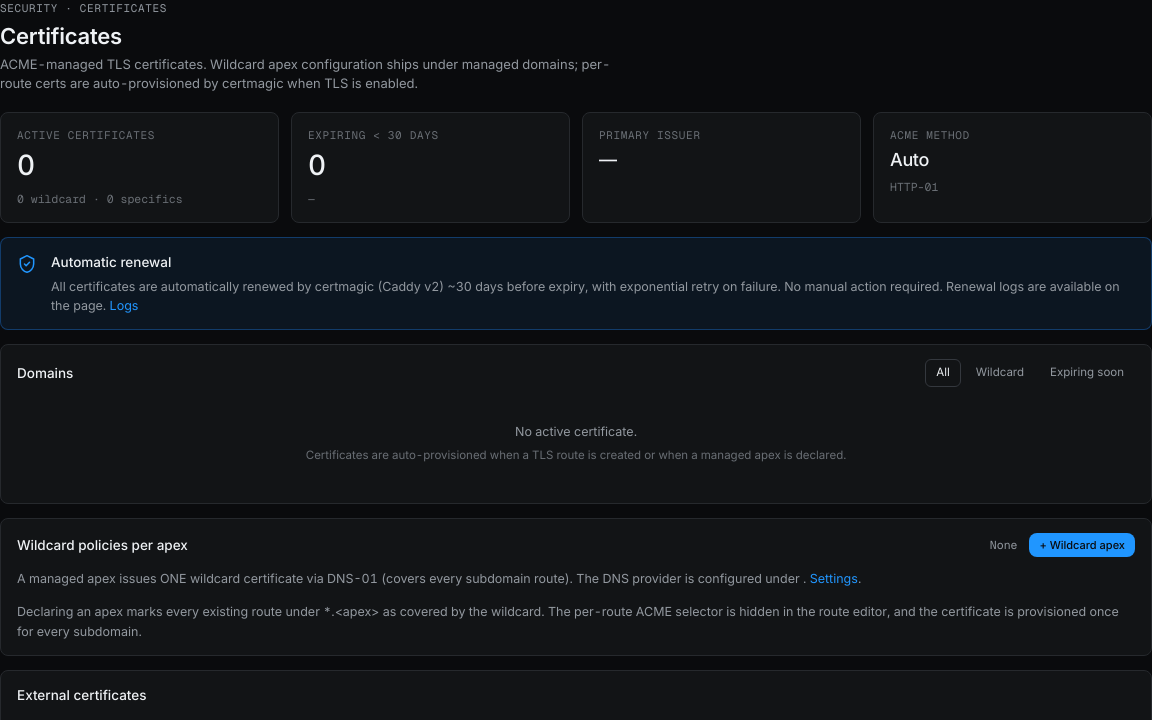
/certs — managed-domains editor (migrated from /settings in #R-6 Pack A; reframed by T.5) › clicking "+ Wildcard apex" opens the wizard with the three form controls
The image size is (1152, 720).
Click the button with test id "open-wildcard-wizard".
click(1082, 545)  # box [1030, 533, 1135, 557]
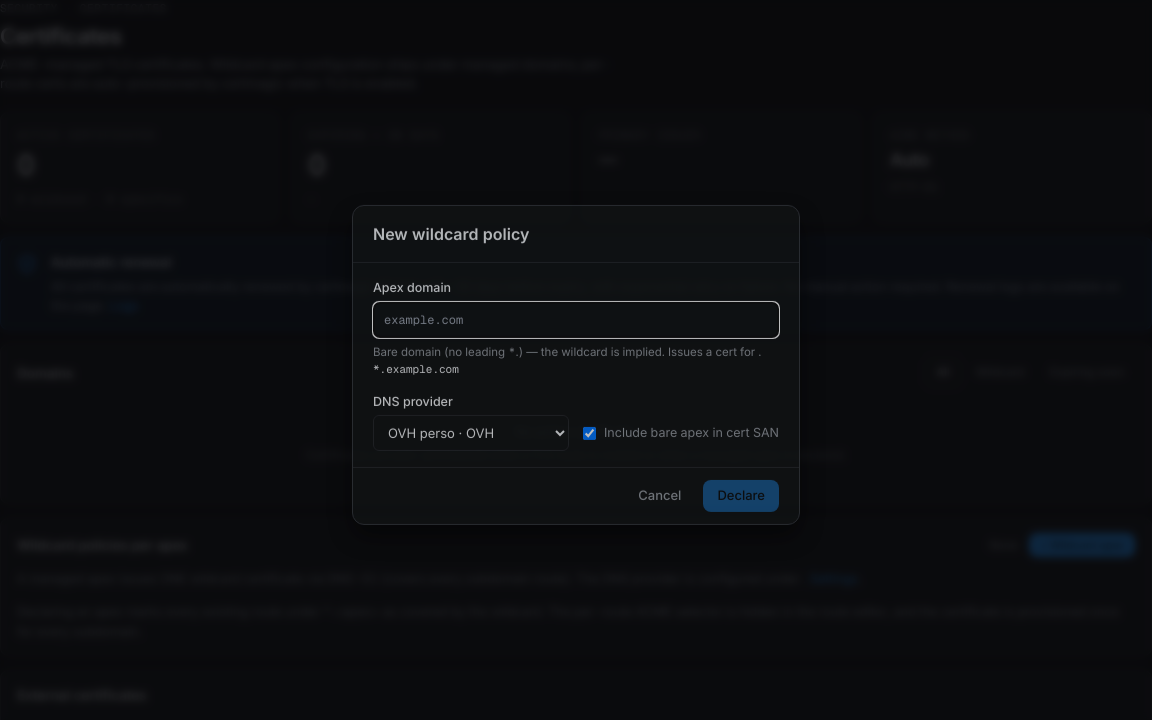
Now the field labelled "Apex domain" is shown, box [373, 299, 779, 335]
Now the dropdown labelled "DNS provider" is shown, box [373, 412, 569, 448]
Now the checkbox labelled "Include bare apex in cert SAN" is shown, box [583, 424, 596, 437]
